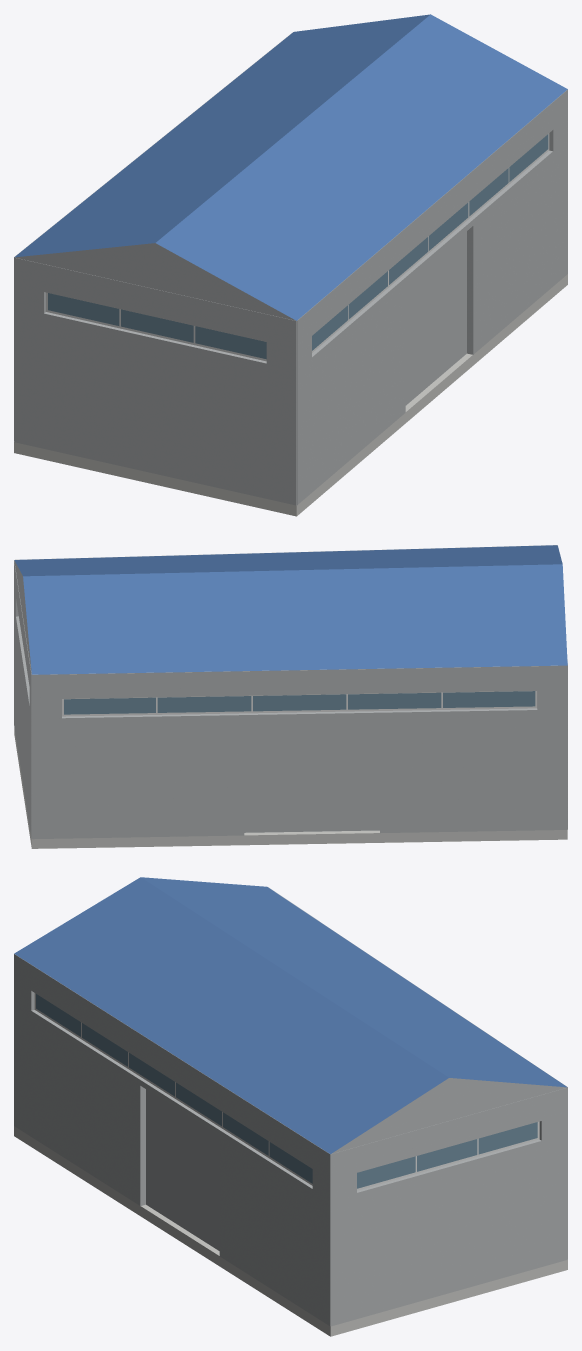
3 views of the same model, one above another, from view 1: azimuth 30°, elevation 25°; view 2: azimuth 150°, elevation 25°; view 3: azimuth 270°, elevation 25° (orthographic). The views are drawn at different scales.
Visible parts, largest first — view 1: se-shed-a__siding, se-shed-a__roofmetal, se-shed-a__shutter, se-shed-a__glass, se-shed-a__concrete, se-shed-a__lightframe; view 2: se-shed-a__siding, se-shed-a__roofmetal, se-shed-a__shutter, se-shed-a__glass, se-shed-a__concrete, se-shed-a__lightframe; view 3: se-shed-a__siding, se-shed-a__roofmetal, se-shed-a__shutter, se-shed-a__glass, se-shed-a__concrete, se-shed-a__lightframe.
Boxes of the visible parts, left/top/right/bottom form: se-shed-a__siding: left=14, top=32, right=567, bottom=505; se-shed-a__roofmetal: left=14, top=14, right=567, bottom=320; se-shed-a__shutter: left=405, top=231, right=466, bottom=405; se-shed-a__glass: left=48, top=134, right=548, bottom=359; se-shed-a__concrete: left=14, top=274, right=567, bottom=516; se-shed-a__lightframe: left=46, top=133, right=549, bottom=361; se-shed-a__siding: left=14, top=545, right=567, bottom=839; se-shed-a__roofmetal: left=14, top=545, right=567, bottom=674; se-shed-a__shutter: left=244, top=718, right=379, bottom=832; se-shed-a__glass: left=64, top=691, right=535, bottom=714; se-shed-a__concrete: left=14, top=728, right=567, bottom=848; se-shed-a__lightframe: left=62, top=691, right=537, bottom=716; se-shed-a__siding: left=14, top=887, right=567, bottom=1326; se-shed-a__roofmetal: left=14, top=877, right=567, bottom=1154; se-shed-a__shutter: left=146, top=1089, right=219, bottom=1250; se-shed-a__glass: left=36, top=994, right=537, bottom=1188; se-shed-a__concrete: left=14, top=1126, right=567, bottom=1336; se-shed-a__lightframe: left=34, top=993, right=539, bottom=1190.
Bounding box in the file's own units: 20 × 7.86 × 17.5.
7 materials, 1 textured.
